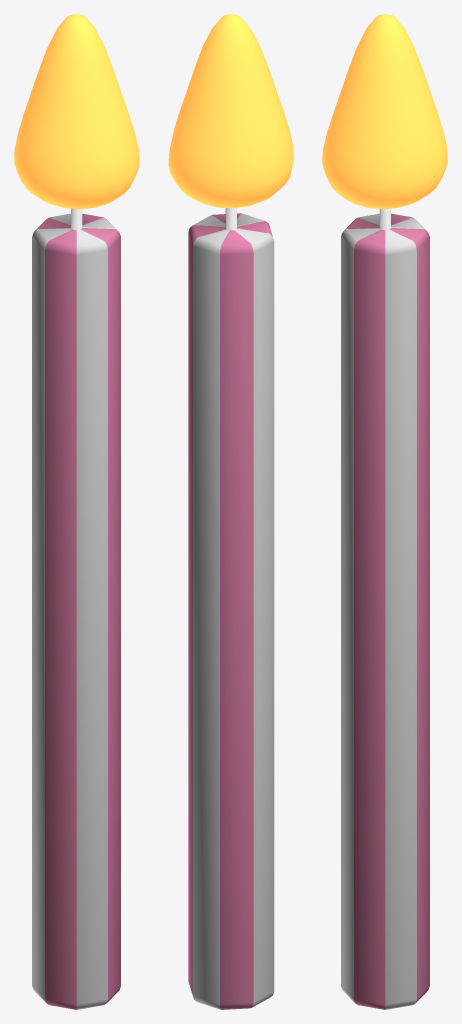
Rendered from candle2.glb.
3 views of the same model, side by side, from view 1: azimuth 90°, elevation 25°; view 2: azimuth 210°, elevation 25°; view 3: azimuth 270°, elevation 25° (orthographic).
Parts seen in each view (by area): view 1: Cylinder; view 2: Cylinder; view 3: Cylinder.
Boxes of the visible parts, x1,y1,x2,y2 form: Cylinder: (14, 14, 139, 1009); Cylinder: (168, 14, 293, 1009); Cylinder: (322, 14, 447, 1009).
Size of the model in its own units: 0.2265 by 1.94 by 0.2257.
